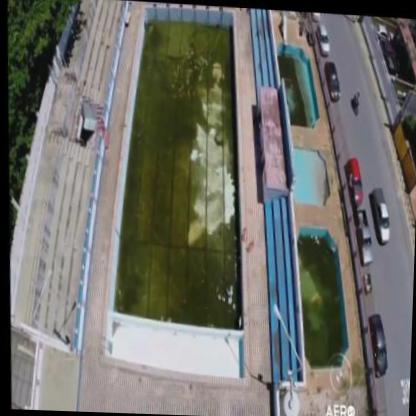agua: (136, 20, 240, 311), (294, 232, 350, 366), (275, 48, 310, 124)
